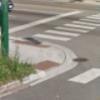crosswalks: (33, 15, 100, 42)
